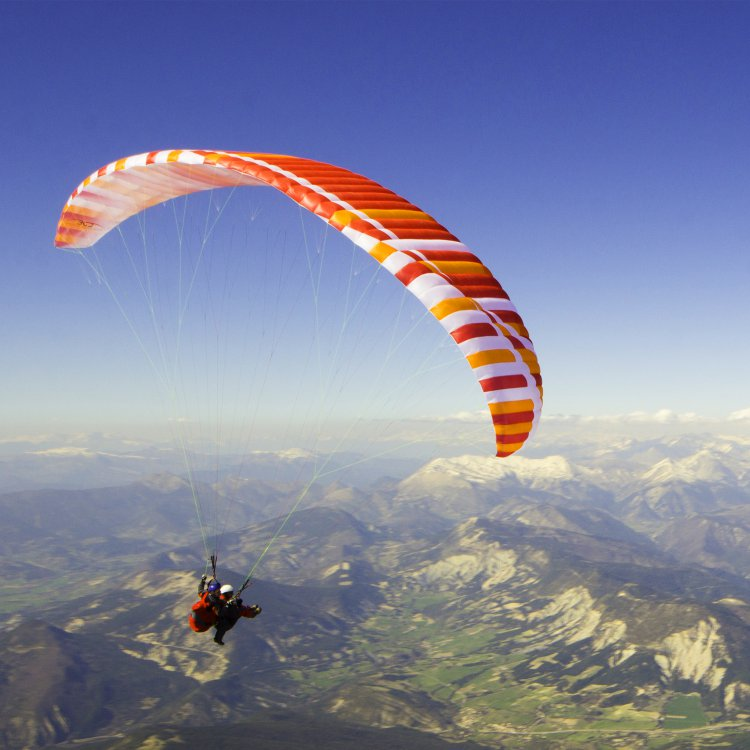Paraglider: (58, 149, 544, 465)
